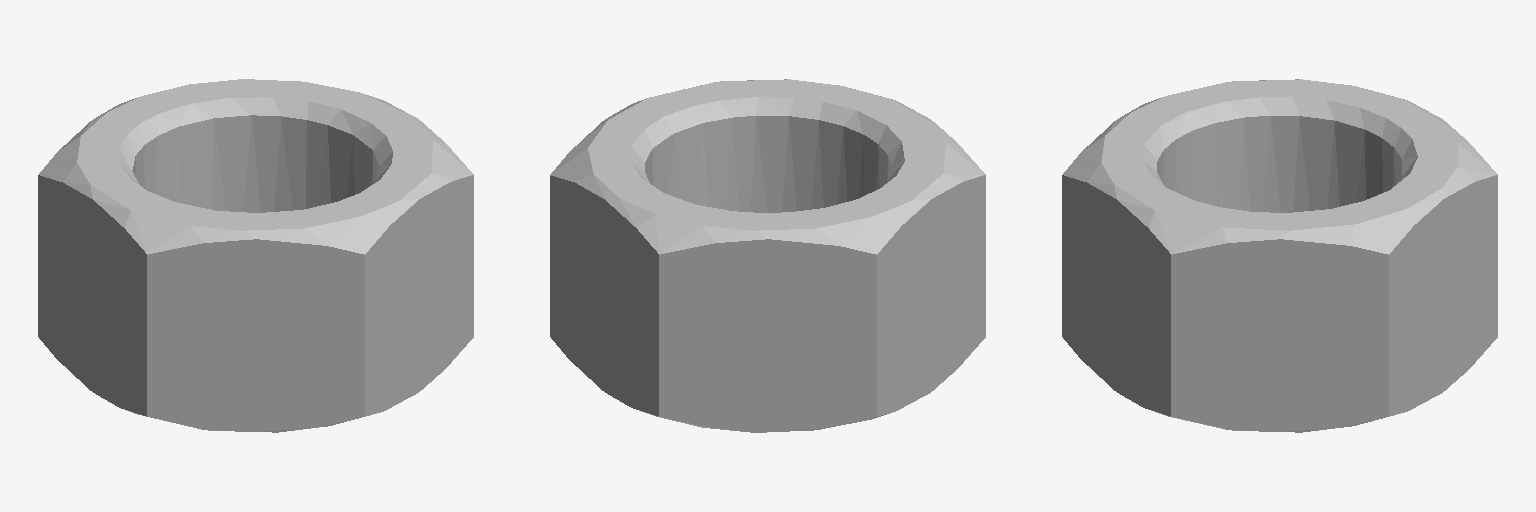
The picture shows the model from 3 angles: view 1: azimuth 30°, elevation 25°; view 2: azimuth 150°, elevation 25°; view 3: azimuth 270°, elevation 25°; orthographic projection.
Parts seen in each view (by area): view 1: imagetostl_mesh0; view 2: imagetostl_mesh0; view 3: imagetostl_mesh0.
Part boxes in pixels (bbox=[...]): imagetostl_mesh0: bbox=[38, 79, 473, 432]; imagetostl_mesh0: bbox=[550, 79, 985, 432]; imagetostl_mesh0: bbox=[1062, 79, 1497, 432].
Size of the model in its own units: 22 by 13 by 25.4.